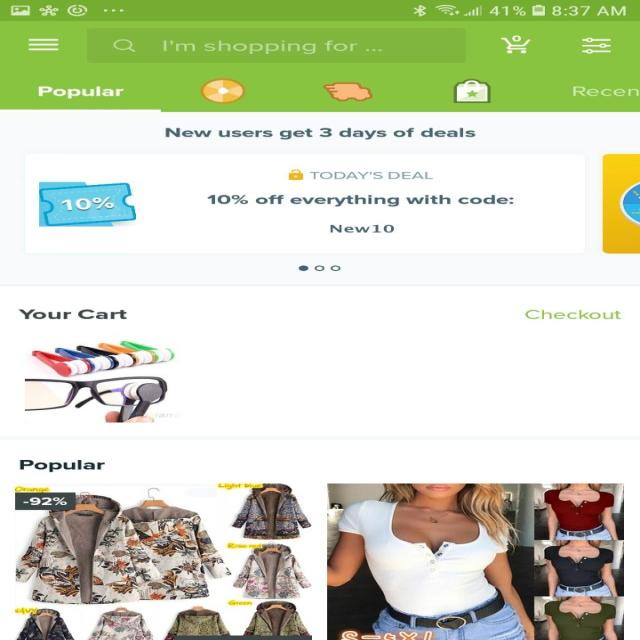EditText: (87, 28, 466, 64)
Icon: (452, 79, 490, 103), (500, 35, 530, 54), (580, 37, 610, 54), (28, 38, 58, 51), (113, 39, 136, 53), (288, 169, 303, 180)
Image: (14, 483, 312, 640), (326, 483, 624, 640), (25, 340, 179, 422), (39, 182, 136, 226), (601, 154, 639, 254), (200, 78, 246, 104), (322, 82, 372, 101)
Text: (206, 194, 514, 207), (164, 128, 476, 140), (162, 40, 382, 54), (38, 86, 124, 99), (19, 459, 105, 472), (18, 309, 128, 319), (308, 171, 433, 179), (524, 310, 620, 319), (572, 86, 640, 97), (330, 224, 394, 233)
